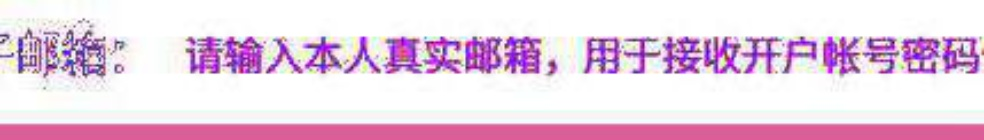EditText: (1, 1, 983, 139)
